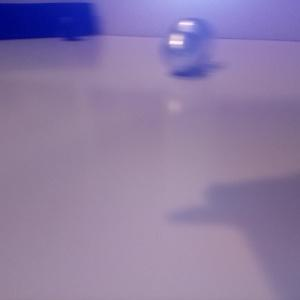alive_ball: (169, 18, 214, 65), (158, 30, 199, 72)
dead_ball: (60, 13, 84, 38)
